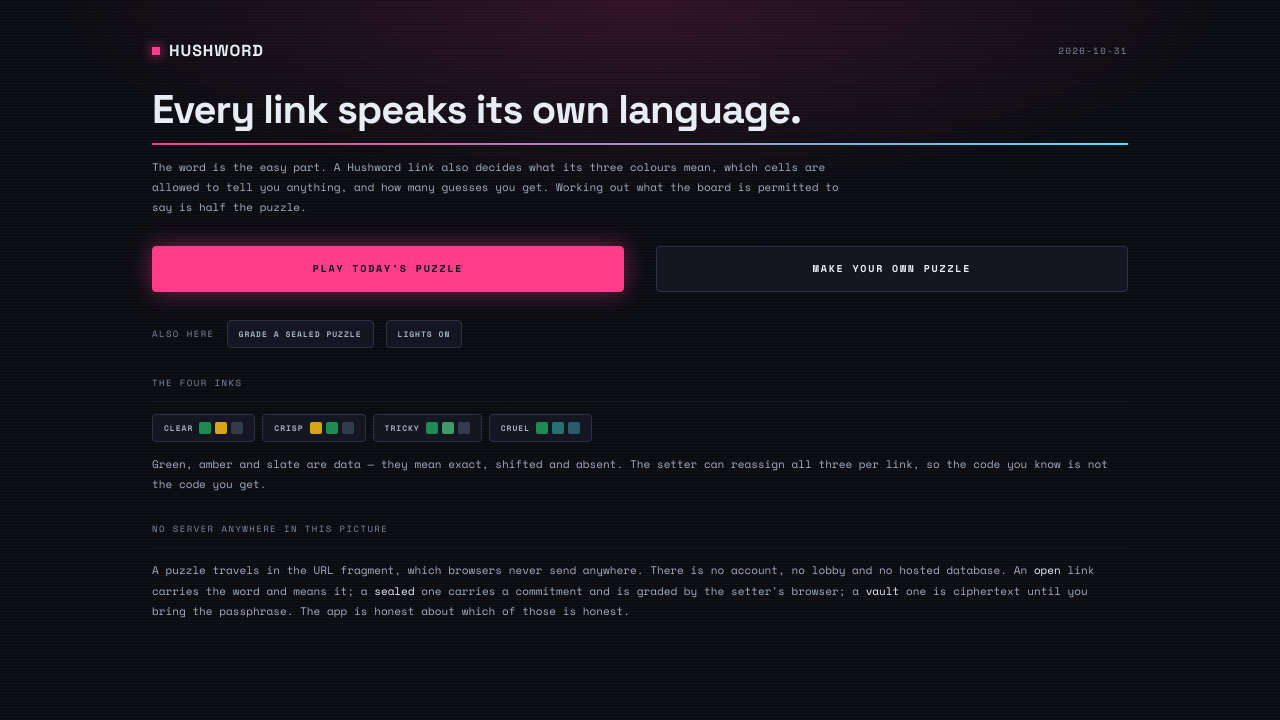
it: the room › turns the lights on
The image size is (1280, 720).
Click the button "lights on".
click(424, 334)  # box [386,320,462,348]
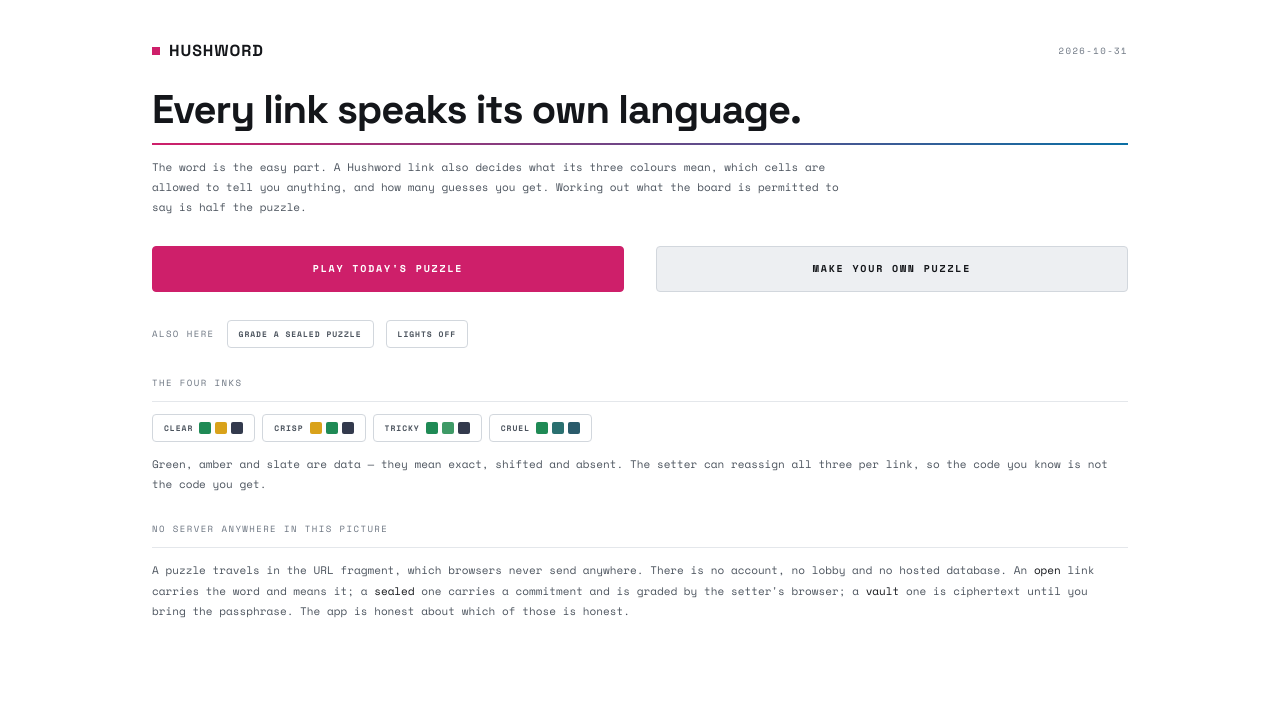
Check: the button "lights off" is shown, box [386,320,468,348]
